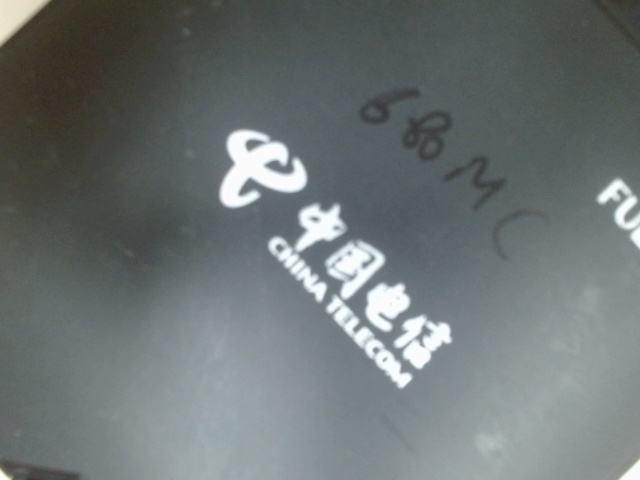AB_ChinaTelecom: (194, 120, 456, 396)
